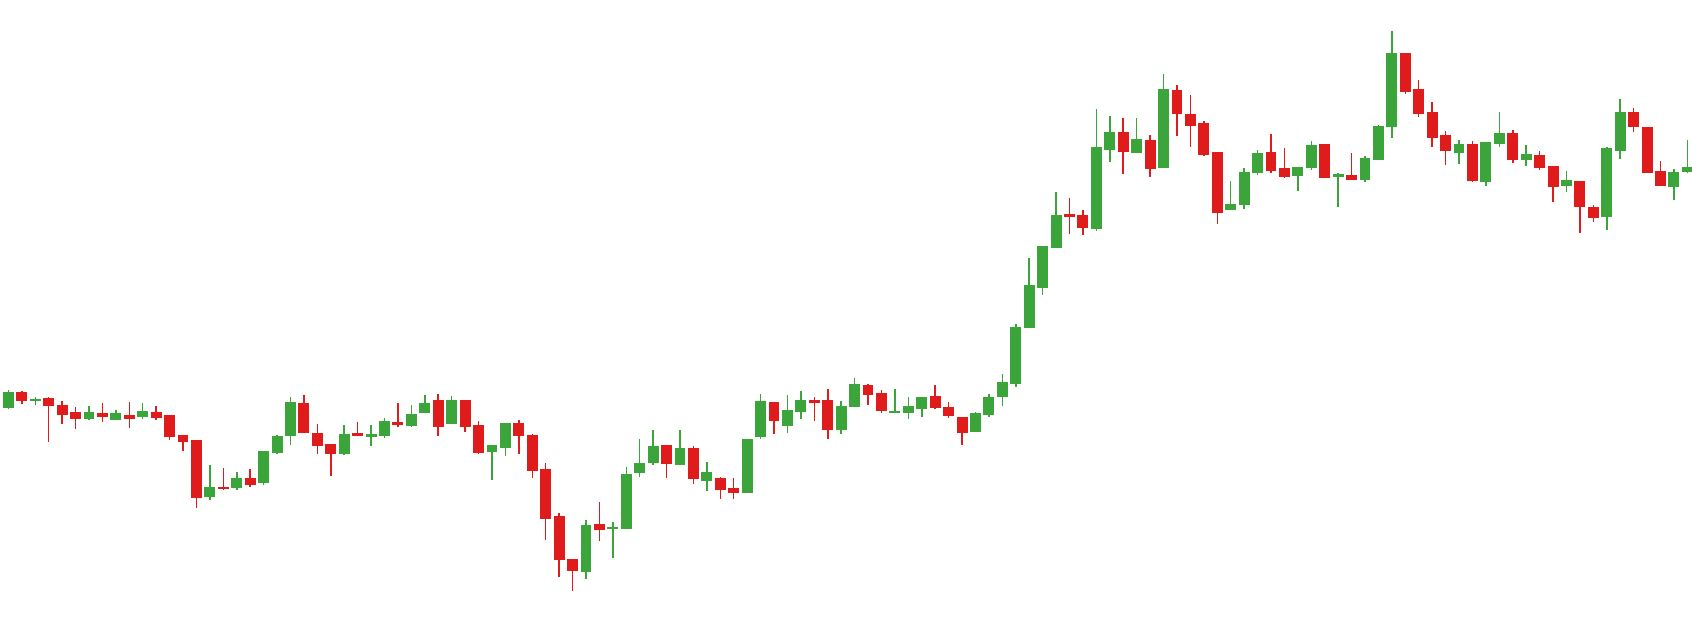buy: (819, 394, 981, 447)
sell: (1157, 33, 1413, 148)
